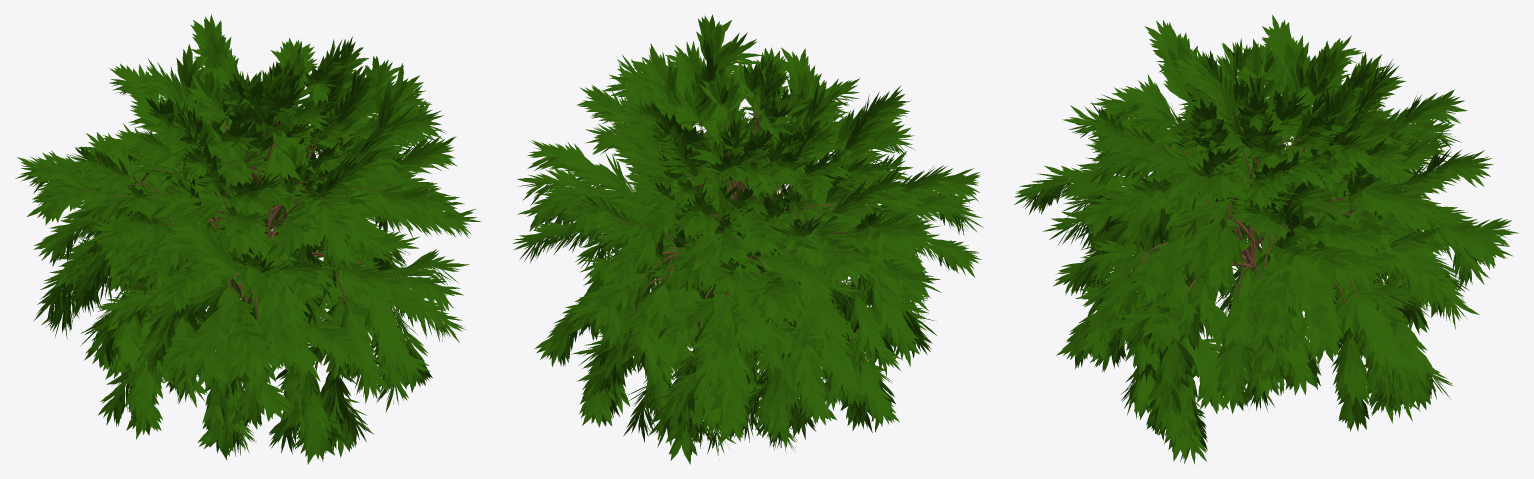
File: bush.fbx
The picture shows the model from 3 angles, left to right: view 1: azimuth 30°, elevation 25°; view 2: azimuth 150°, elevation 25°; view 3: azimuth 270°, elevation 25°; orthographic projection. The views are drawn at different scales.
Visible parts, largest first — view 1: leaves, bush; view 2: leaves, bush; view 3: leaves, bush.
Boxes of the visible parts, x1,y1,x2,y2 form: leaves: (15, 14, 481, 464); bush: (60, 105, 407, 414); leaves: (512, 14, 983, 464); bush: (611, 98, 925, 395); leaves: (1014, 15, 1518, 464); bush: (1063, 96, 1402, 339).
Size of the model in its own units: 618 by 581 by 637.
